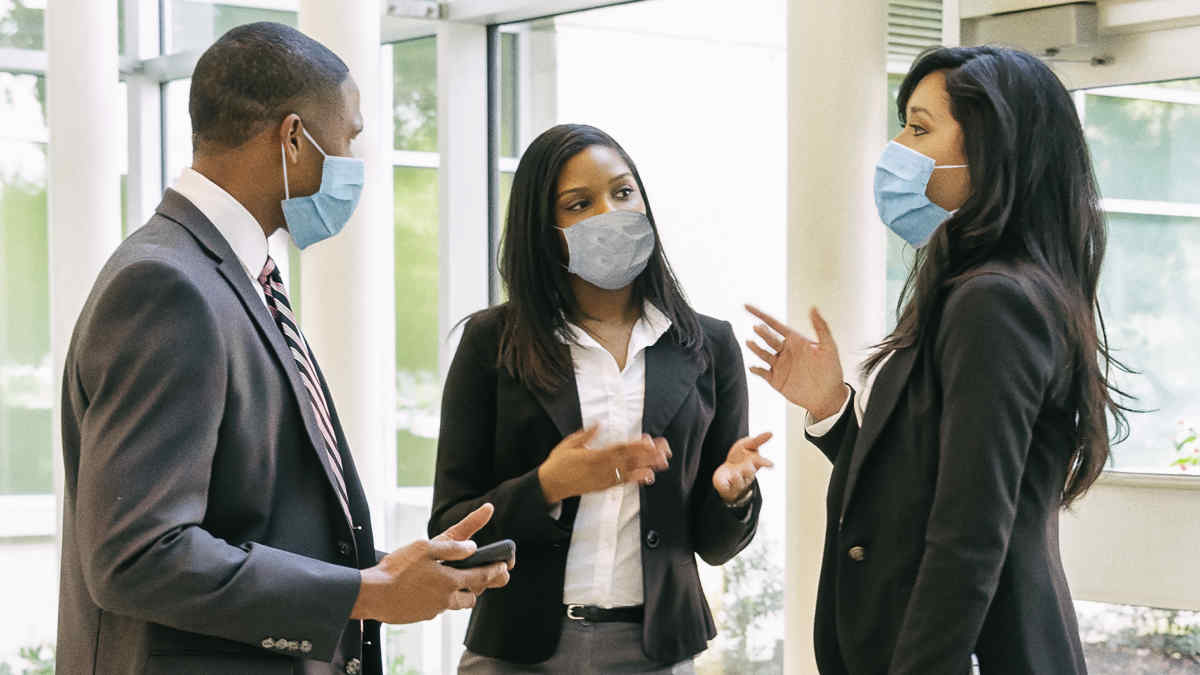with_mask: (875, 96, 953, 257), (558, 161, 656, 279)
